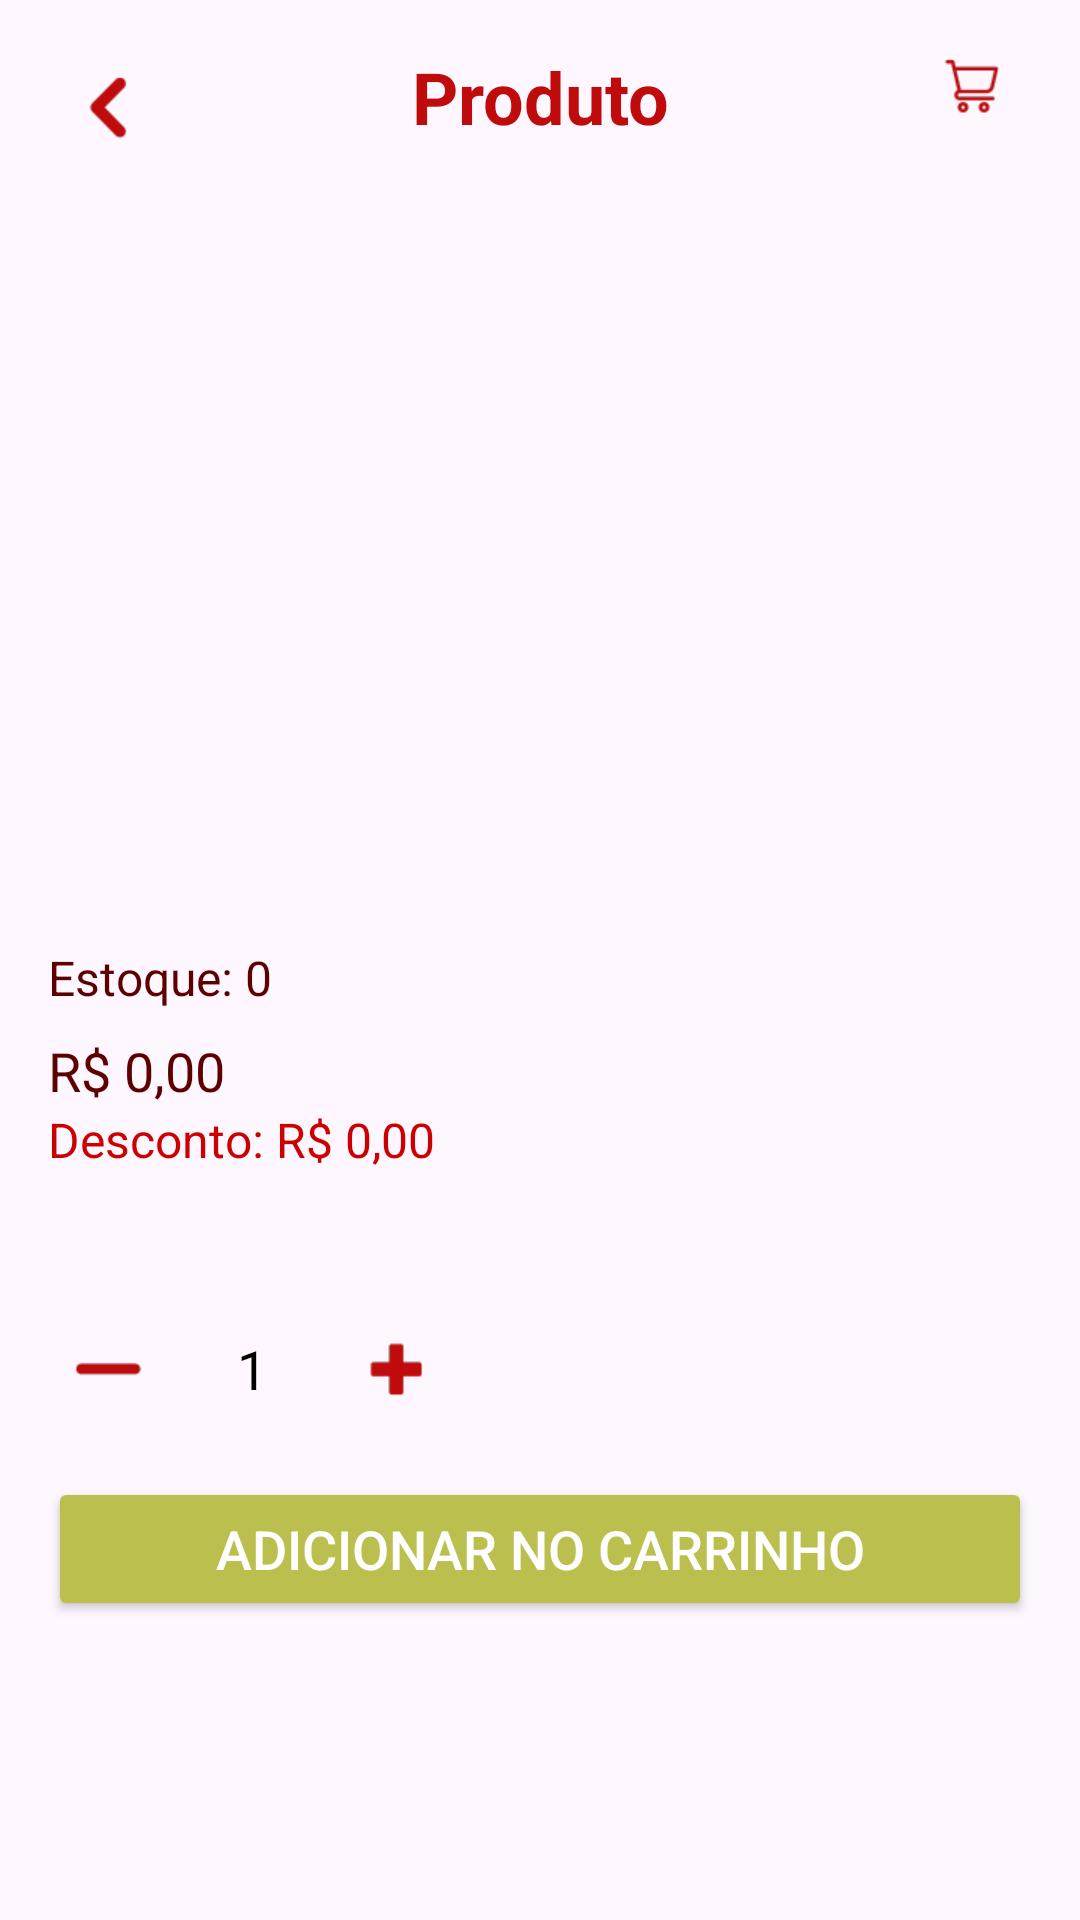

Named icons in this screenshot (1080×1920) and their centers, point (x, y):
Aumentar quantidade: point (396, 1369)
Diminuir quantidade: point (108, 1369)
Ir para o Carrinho: point (972, 86)
Voltar: point (108, 107)
